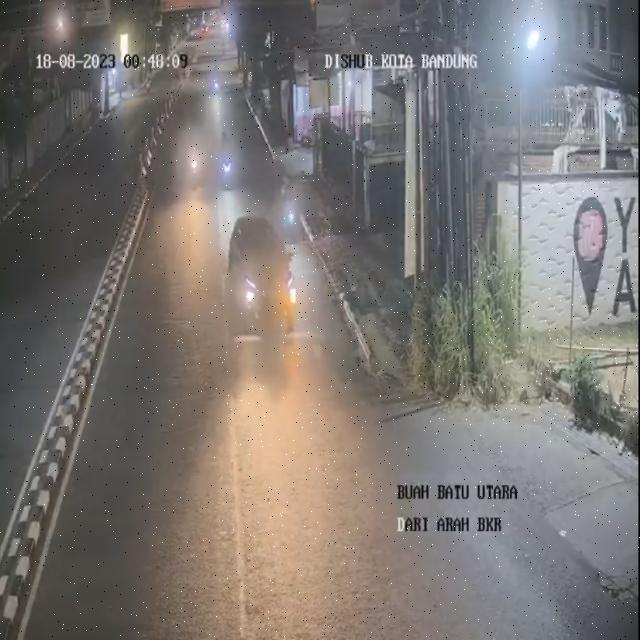cars: (222, 216, 303, 334)
motorcycle: (274, 166, 302, 238), (212, 121, 240, 187)
